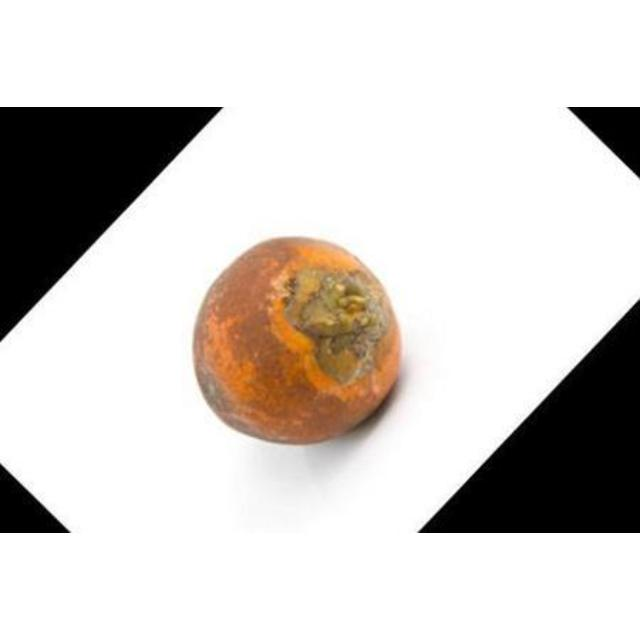good: (191, 236, 404, 448)
